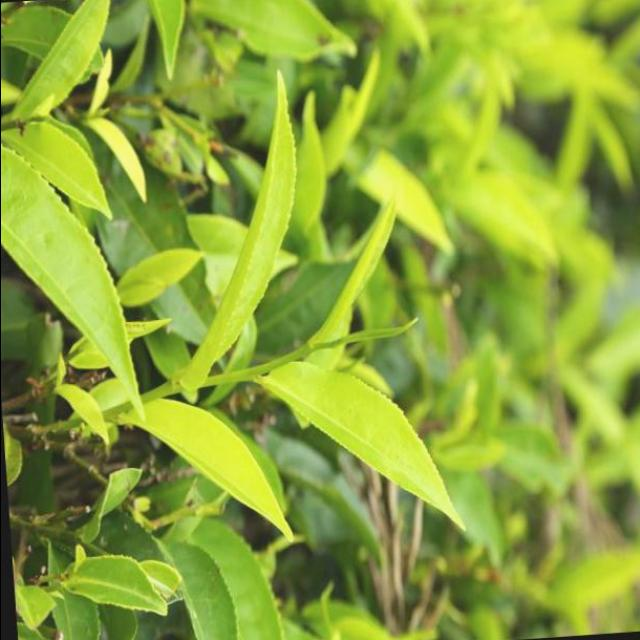Stem: (237, 369, 254, 381)
